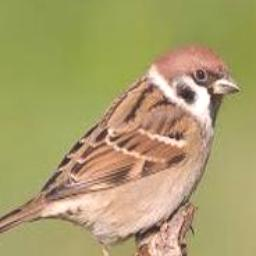Sparrow: (0, 46, 242, 256)
